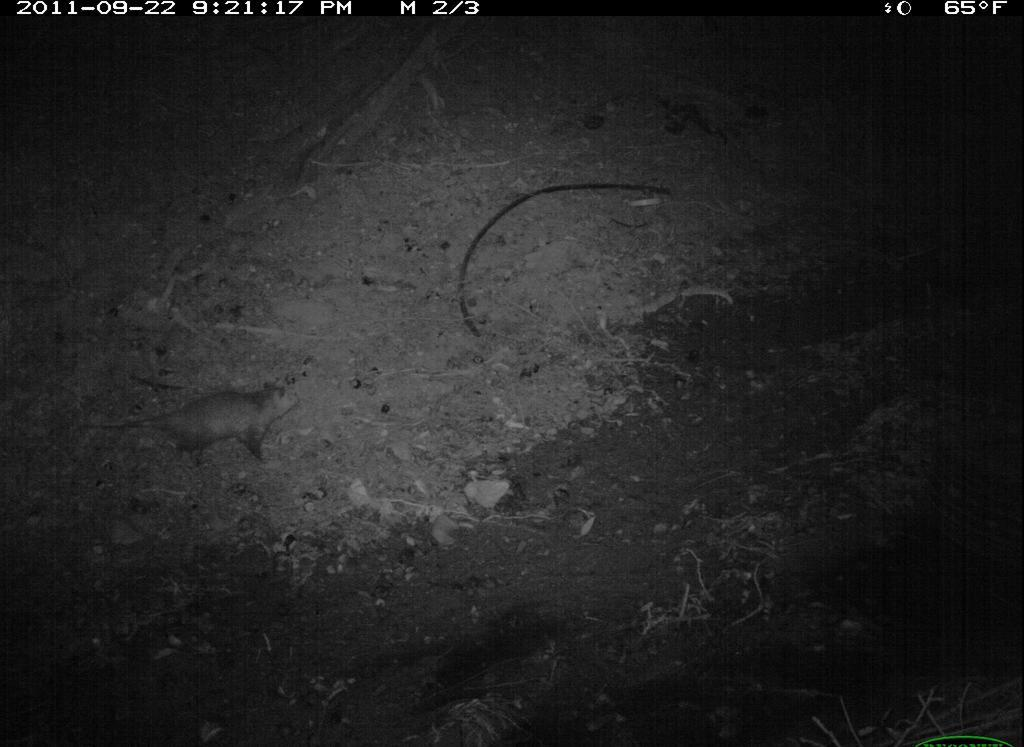opossum: (80, 368, 315, 483)
